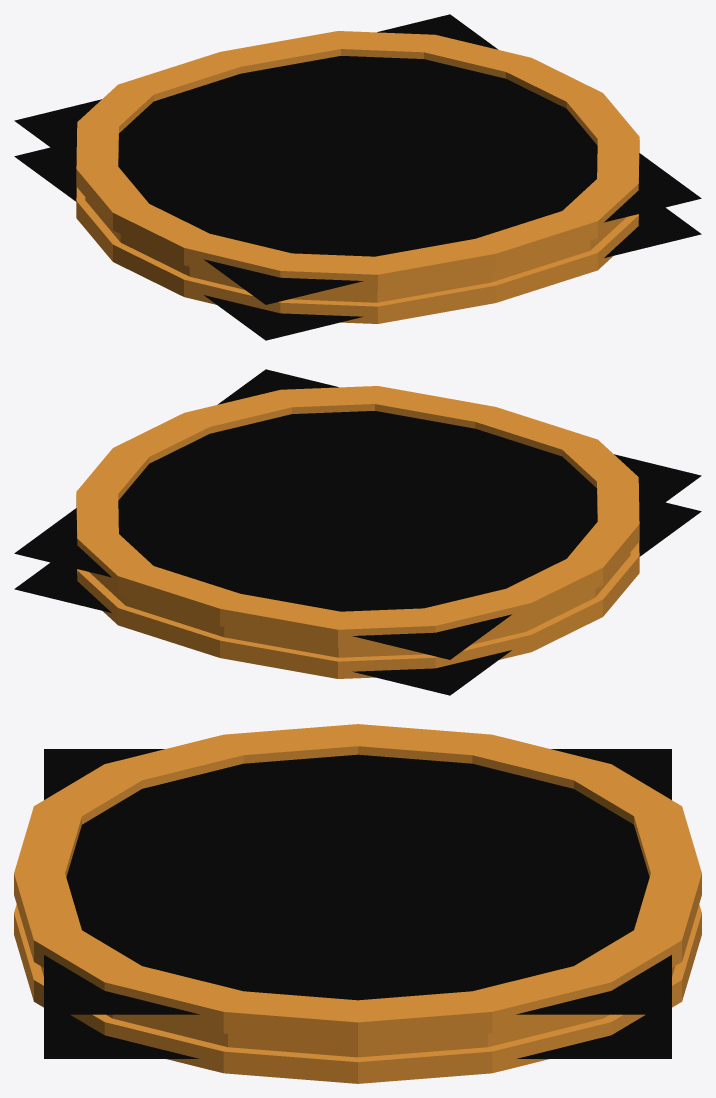
The model's file is coin 1.fbx.
The picture shows the model from 3 angles, top to bottom: view 1: azimuth 30°, elevation 25°; view 2: azimuth 150°, elevation 25°; view 3: azimuth 270°, elevation 25°; orthographic projection. The views are drawn at different scales.
Visible parts, largest first — view 1: coin exture, Plane; view 2: coin exture, Plane; view 3: coin exture, Plane.
Boxes of the visible parts, bbox=[...] form: coin exture: bbox=[14, 14, 701, 340]; Plane: bbox=[76, 31, 639, 323]; coin exture: bbox=[14, 369, 701, 695]; Plane: bbox=[76, 386, 639, 678]; coin exture: bbox=[44, 749, 671, 1058]; Plane: bbox=[14, 724, 701, 1083].
Size of the model in its own units: 520 by 49.95 by 506.
